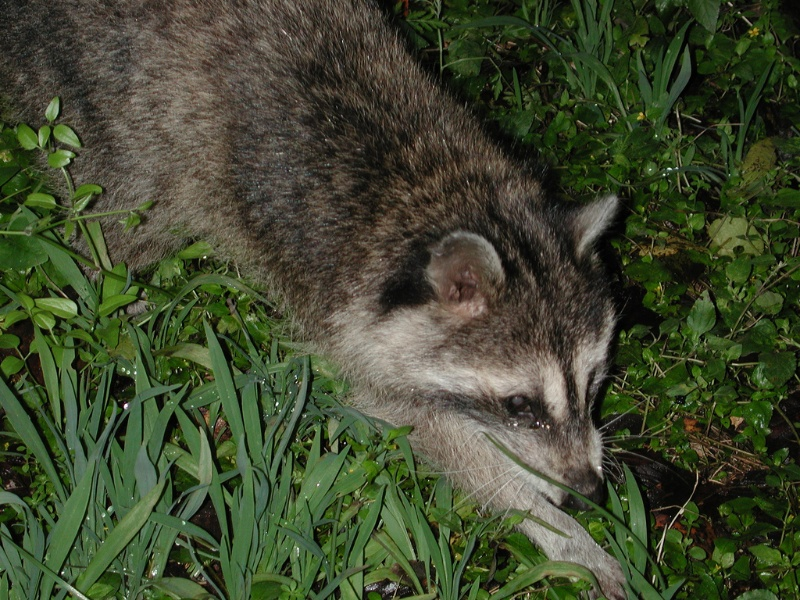raccoon: (1, 1, 648, 590)
